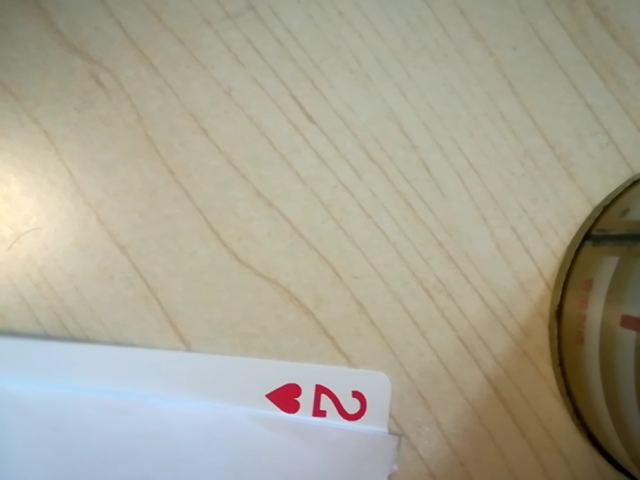hx 2: (261, 372, 384, 432)
